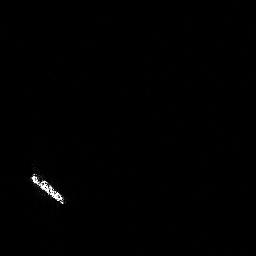ship: (26, 168, 69, 207)
